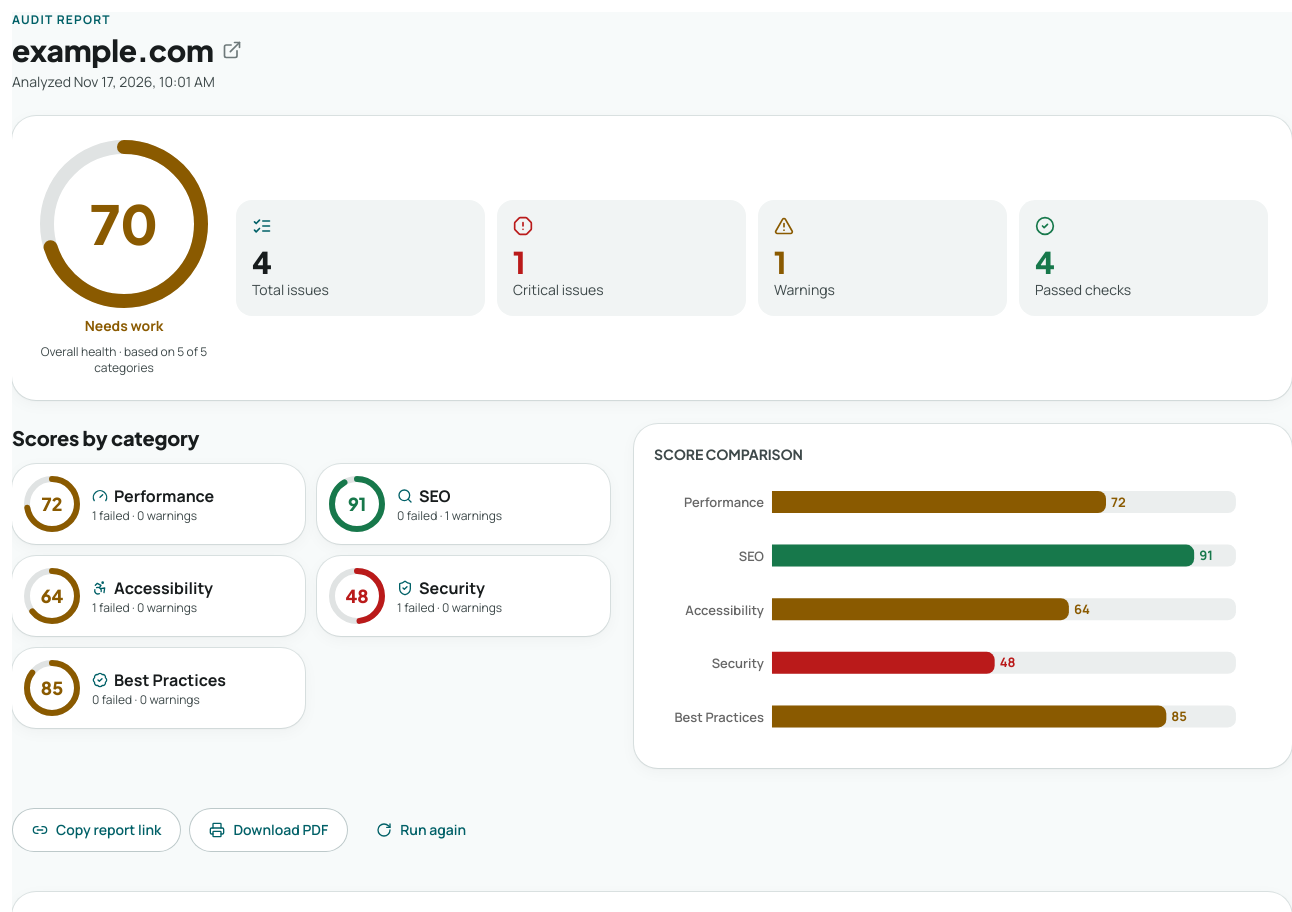
it: ReportView: actions › copies the report link and confirms
The width and height of the screenshot is (1292, 912).
Step 1. Click the button "Copy report link" → click(97, 830), box [12,808,181,852]
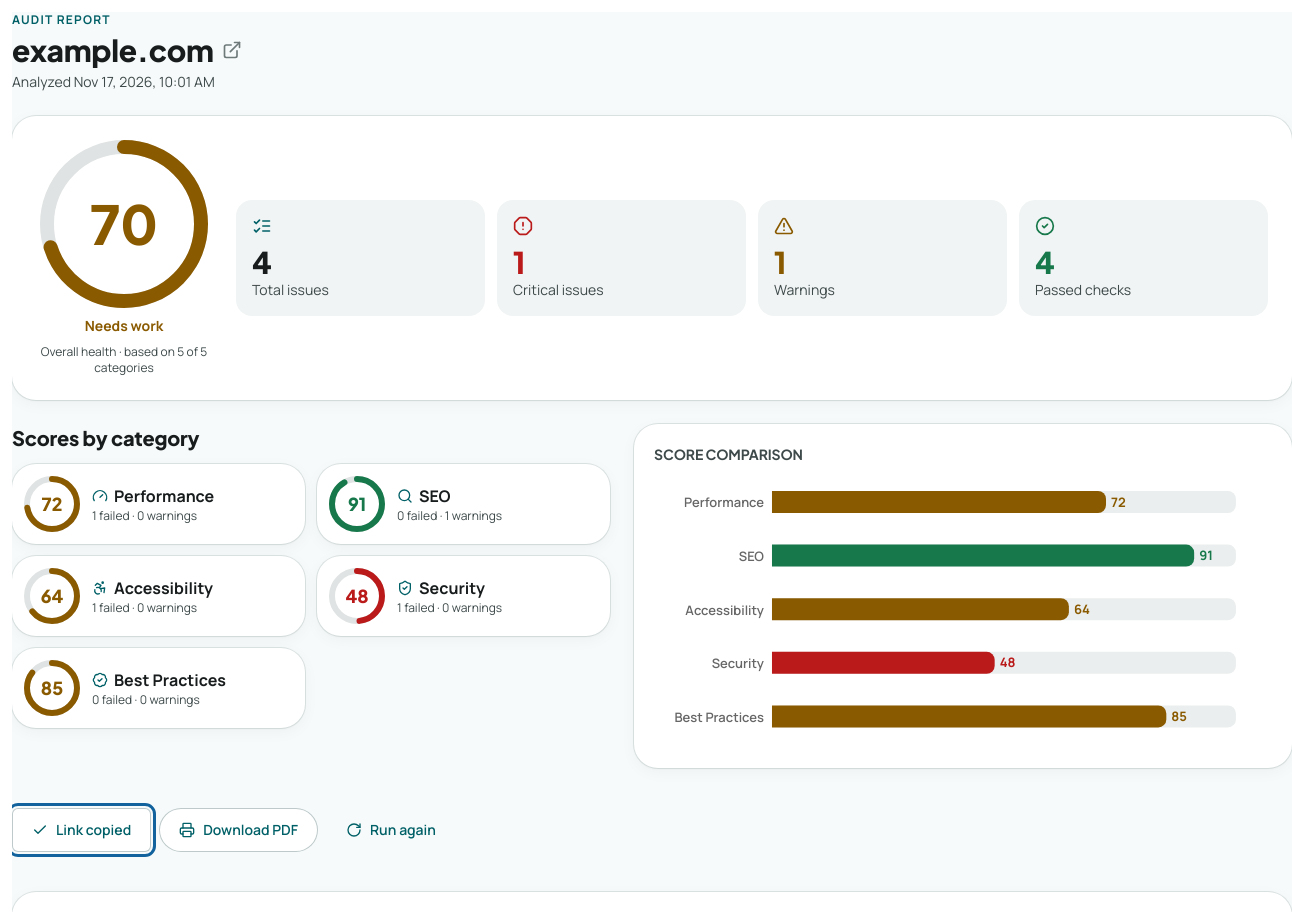
Result: the button "Link copied" is shown at [12,808,151,852]
